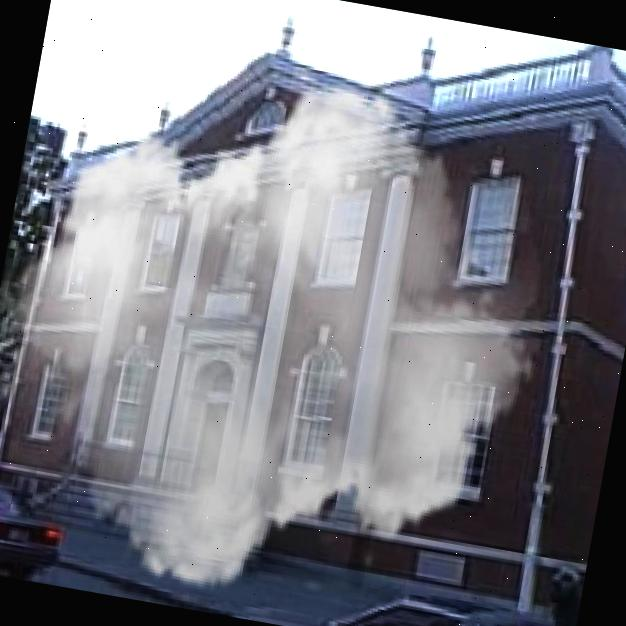smoke: (0, 12, 582, 626)
